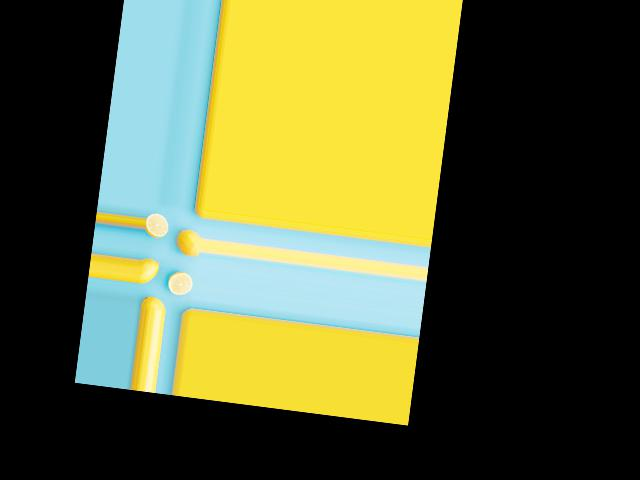lemon: (142, 293, 169, 313)
